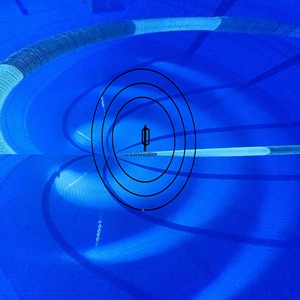circle: (88, 64, 200, 214)
submarine: (134, 122, 157, 158)
